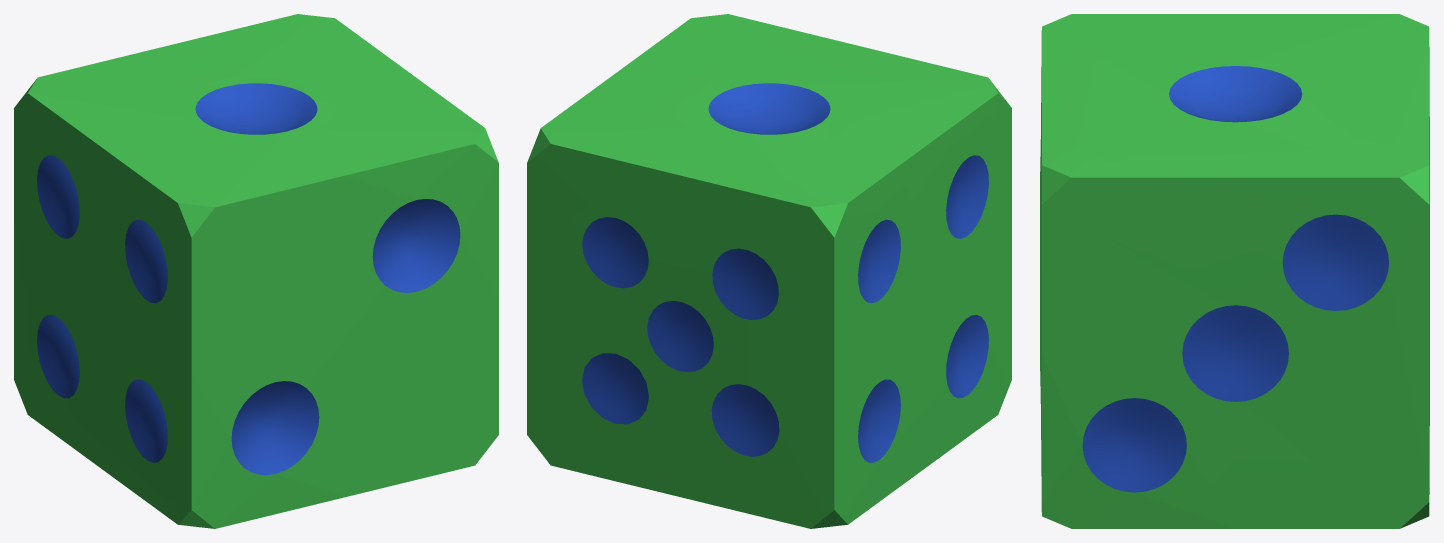
Rendered from Dice_Green.fbx.
3 views of the same model, side by side, from view 1: azimuth 30°, elevation 25°; view 2: azimuth 150°, elevation 25°; view 3: azimuth 270°, elevation 25° (orthographic). The views are drawn at different scales.
Visible parts, largest first — view 1: Dice_Green; view 2: Dice_Green; view 3: Dice_Green.
Part boxes in pixels (left/top/right/bottom): Dice_Green: left=14, top=14, right=498, bottom=528; Dice_Green: left=527, top=14, right=1011, bottom=528; Dice_Green: left=1040, top=14, right=1429, bottom=528.
Size of the model in its own units: 110 by 111 by 111.
